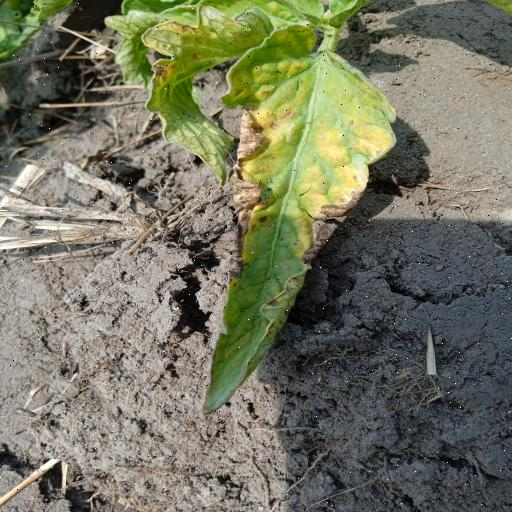Tomato_Brown_Spots: (196, 18, 396, 422)
